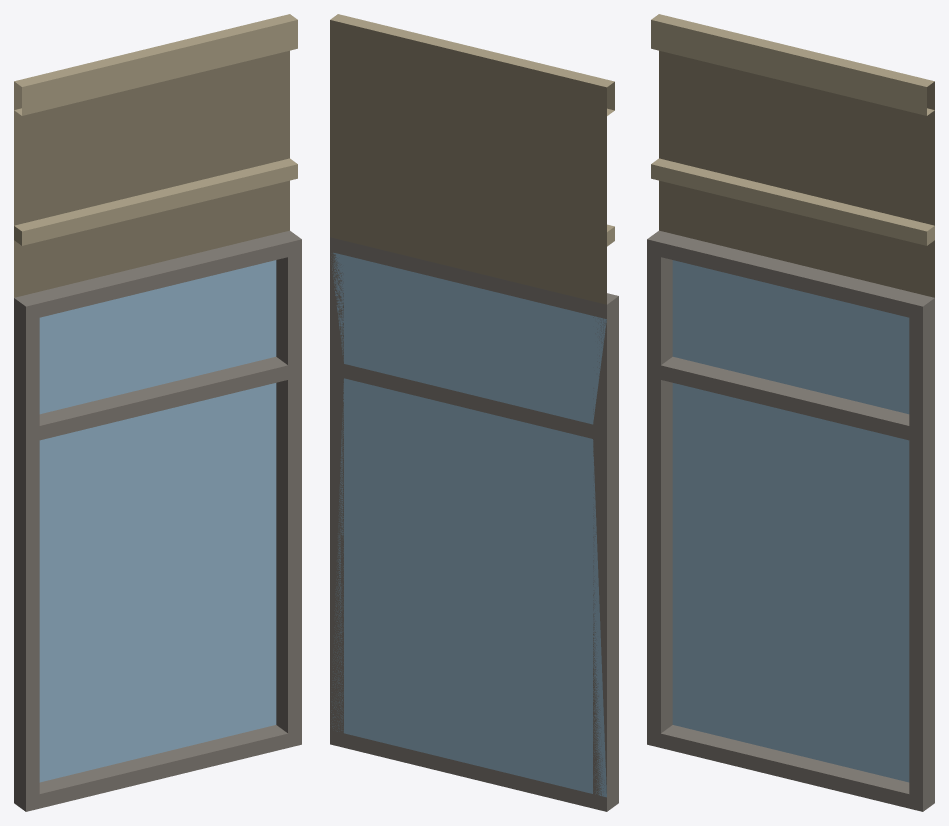
Rendered from Wall2.fbx.
The picture shows the model from 3 angles, left to right: view 1: azimuth 30°, elevation 25°; view 2: azimuth 150°, elevation 25°; view 3: azimuth 330°, elevation 25°; orthographic projection.
Parts seen in each view (by area): view 1: Plane.002; view 2: Plane.002; view 3: Plane.002.
Boxes of the visible parts, x1=… form: Plane.002: x1=14, y1=14, x2=301, y2=811; Plane.002: x1=330, y1=14, x2=618, y2=811; Plane.002: x1=647, y1=14, x2=934, y2=811.
Size of the model in its own units: 400 by 1000 by 30.
